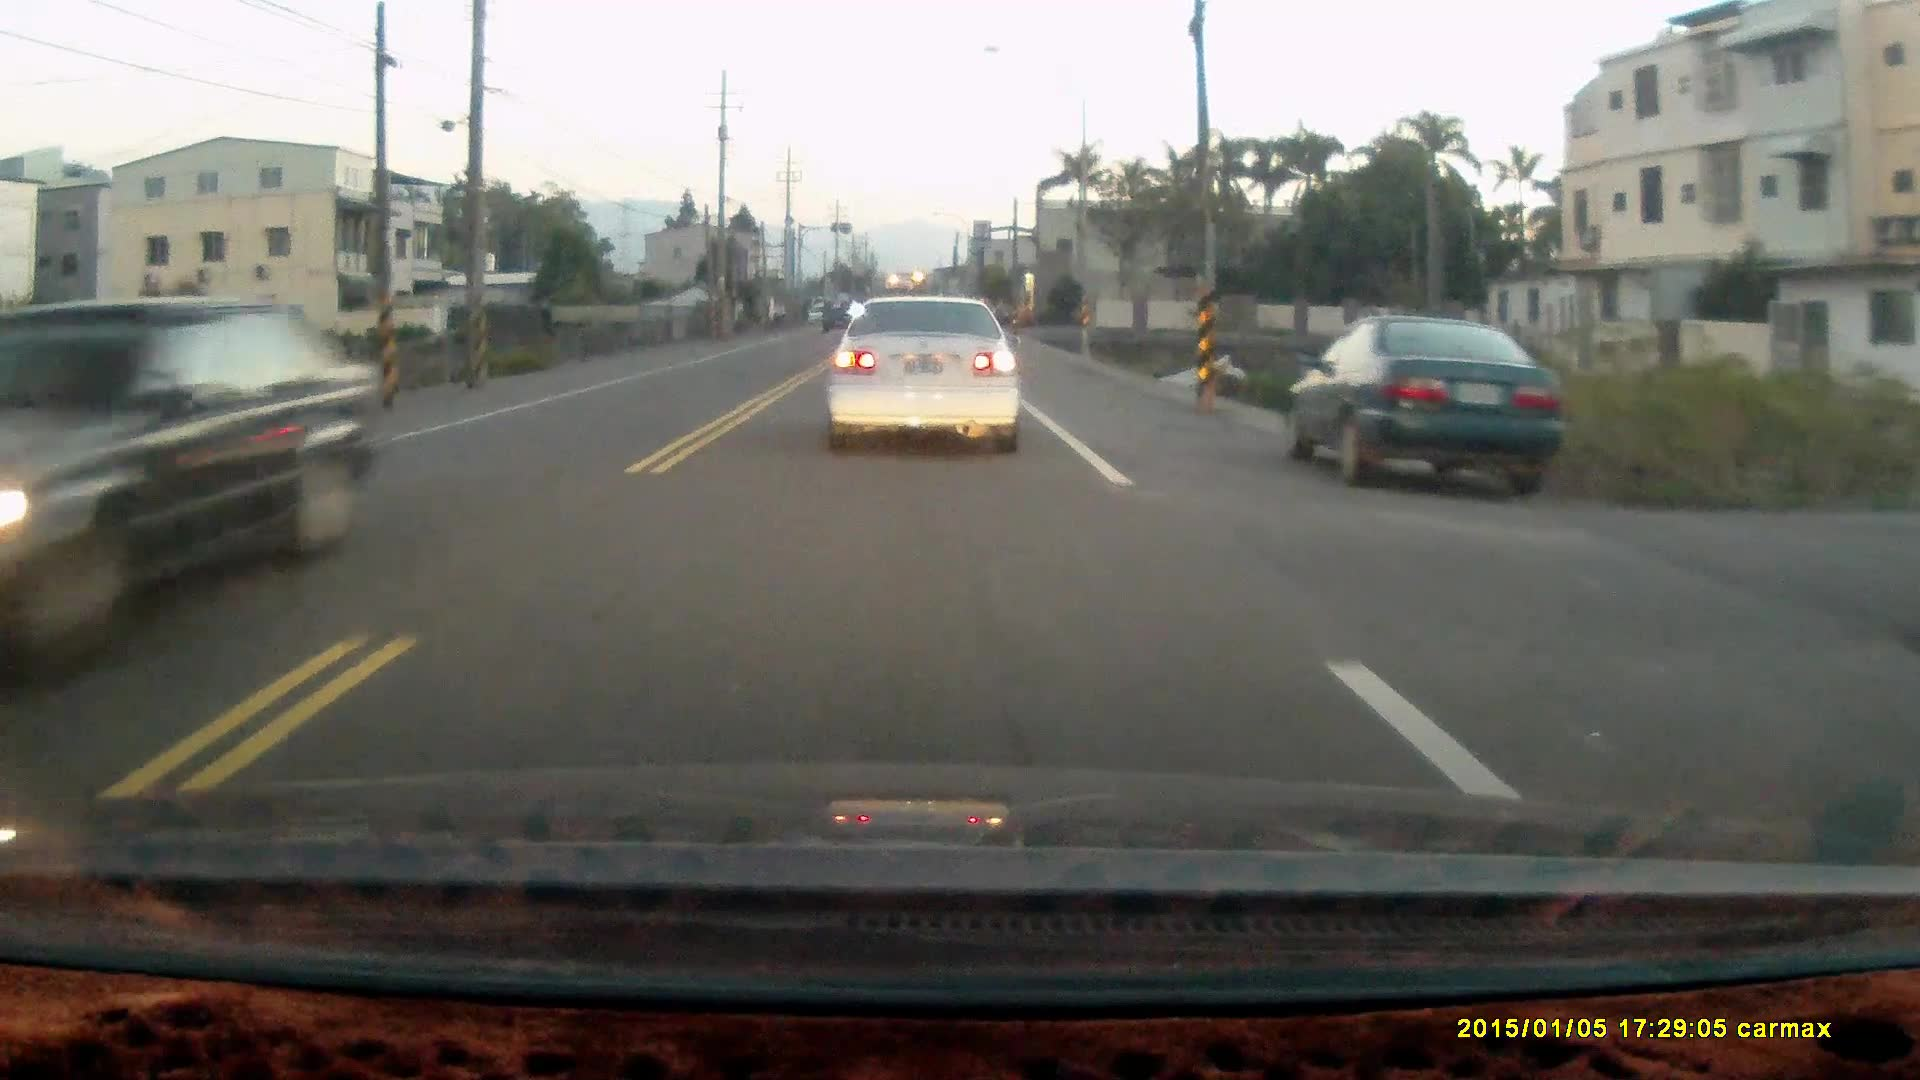vehicle: (1, 294, 402, 645), (1276, 316, 1560, 489), (825, 285, 1021, 442)
